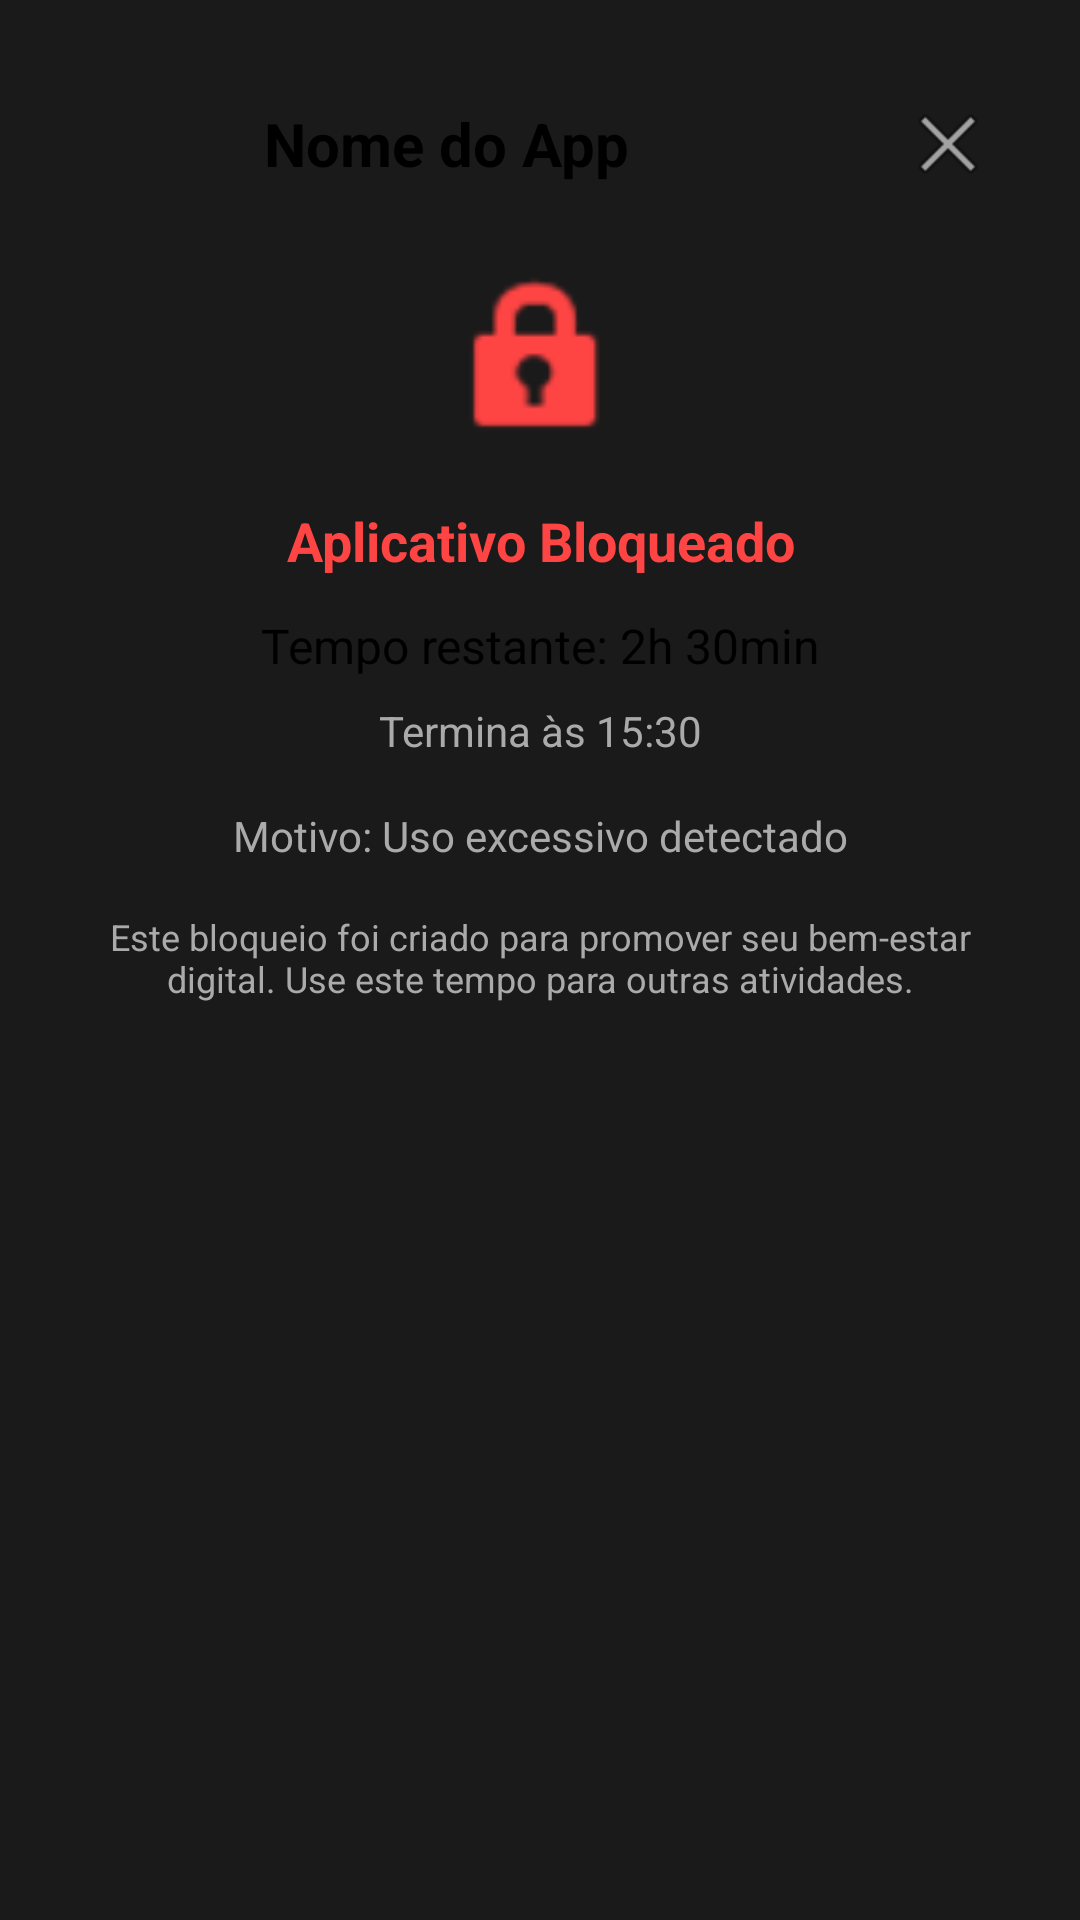

Named icons in this screenshot (1080x1920) and their centers, (x,y):
App bloqueado: (535,354)
Fechar: (948,144)
